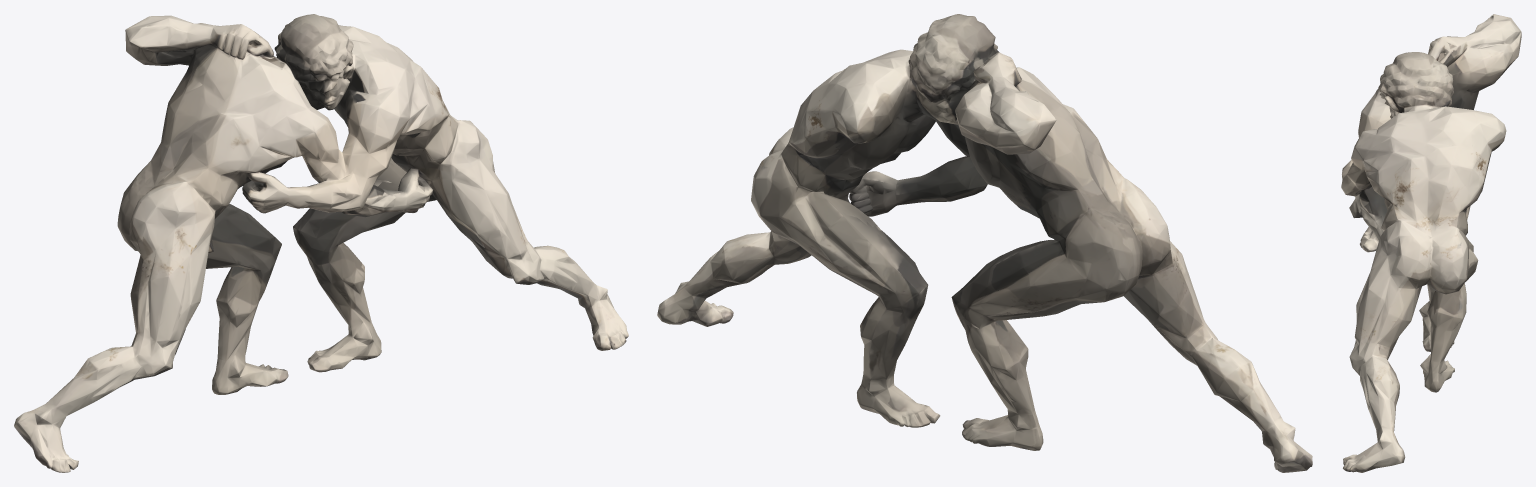
The model's file is estatuasluchando.glb.
The picture shows the model from 3 angles, left to right: view 1: azimuth 30°, elevation 25°; view 2: azimuth 150°, elevation 25°; view 3: azimuth 270°, elevation 25°; orthographic projection. The views are drawn at different scales.
Parts seen in each view (by area): view 1: node_0; view 2: node_0; view 3: node_0.
Part boxes in pixels (<box>): node_0: <box>14,14,628,472</box>; node_0: <box>657,14,1312,472</box>; node_0: <box>1341,14,1521,472</box>.
Bounding box in the file's own units: 1.03 × 0.6092 × 0.3243.
Materials: 1 (1 with a texture image).
